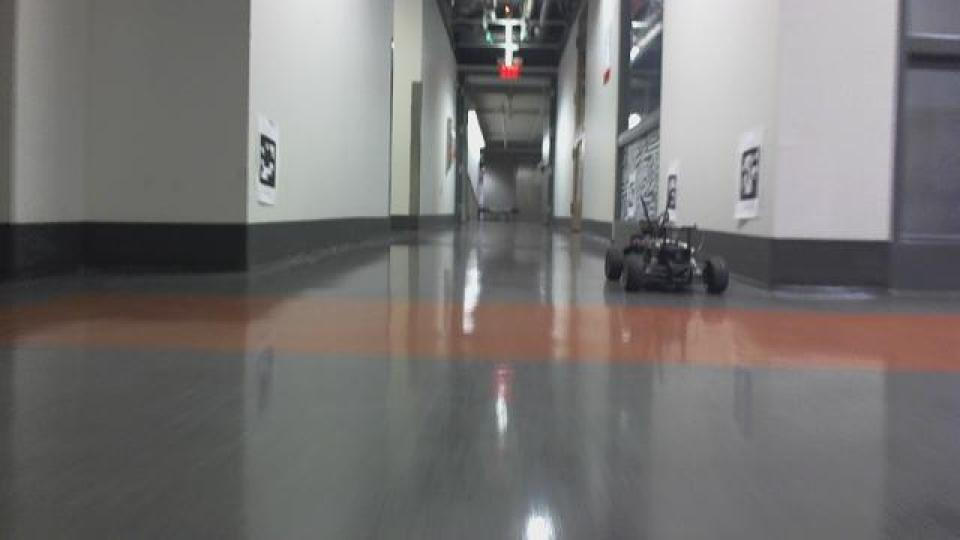car: (600, 194, 730, 298)
